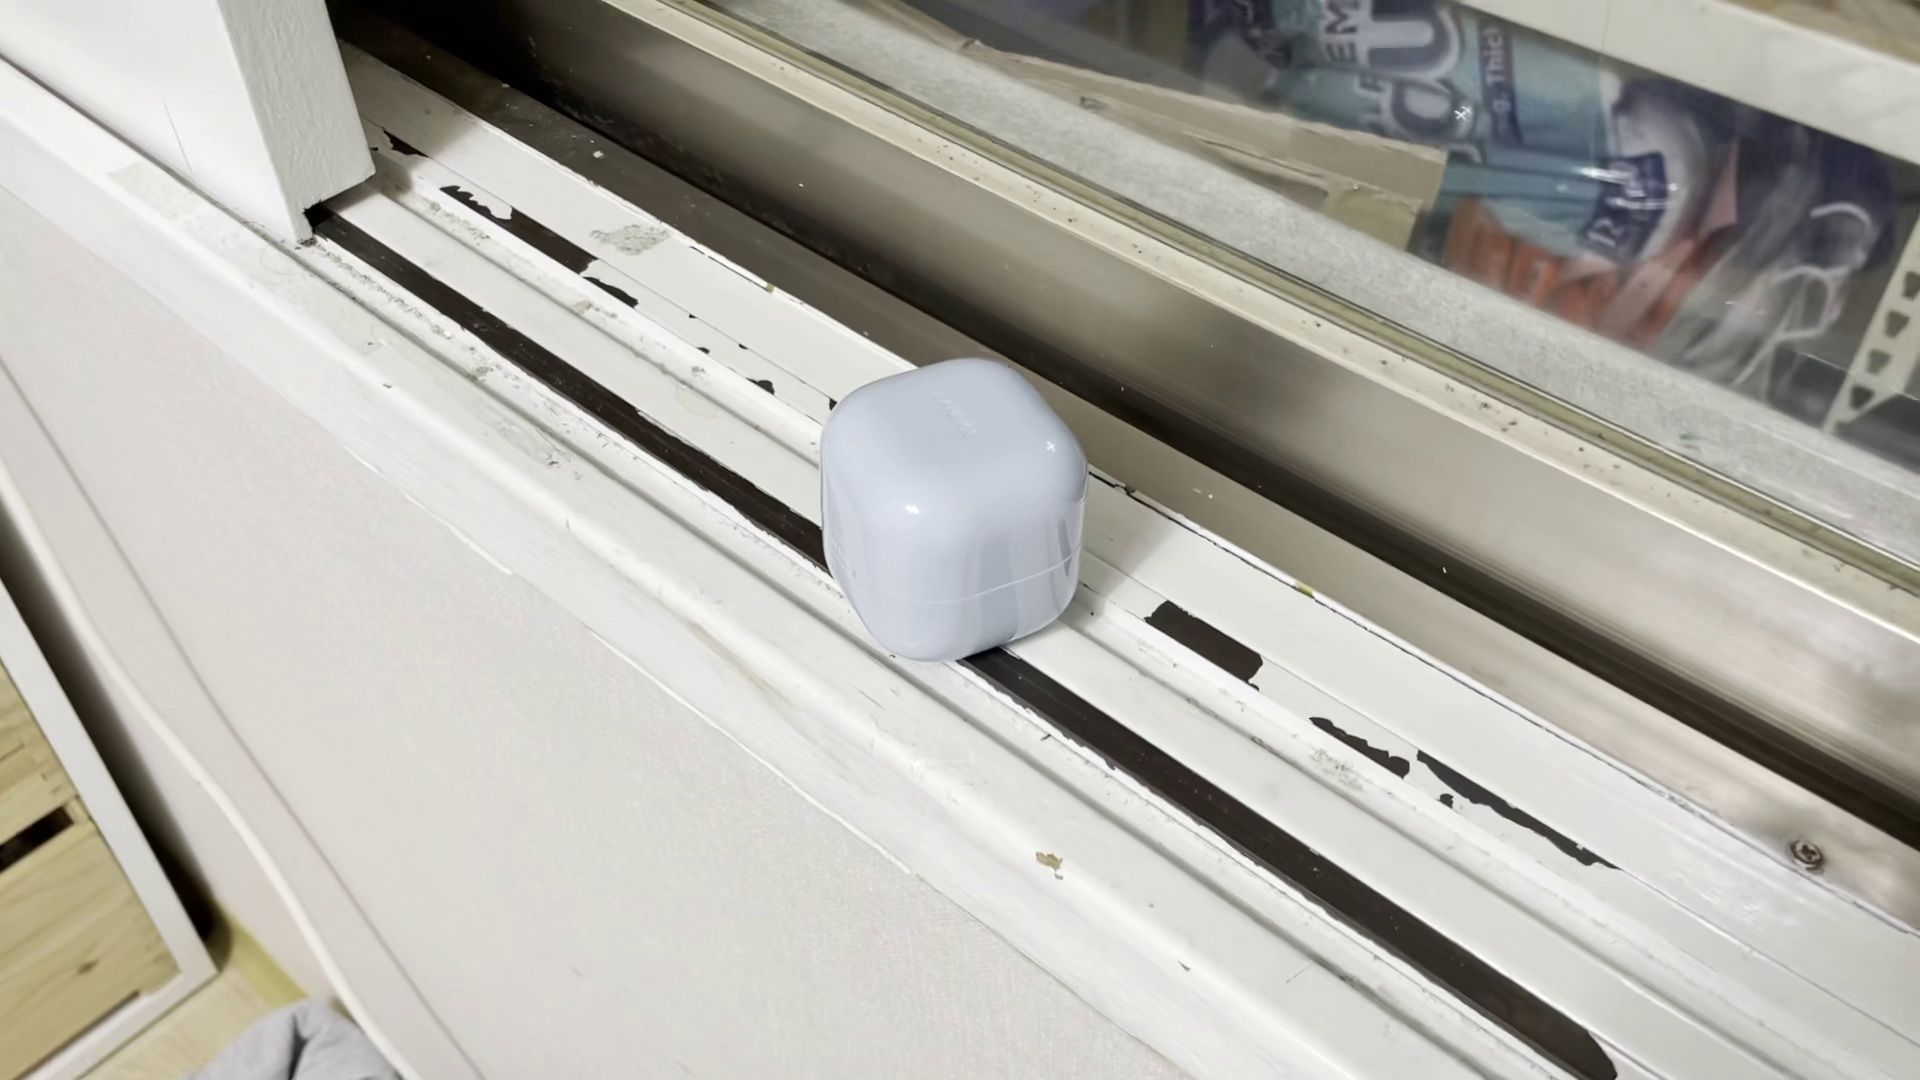cream: (818, 356, 1089, 669)
